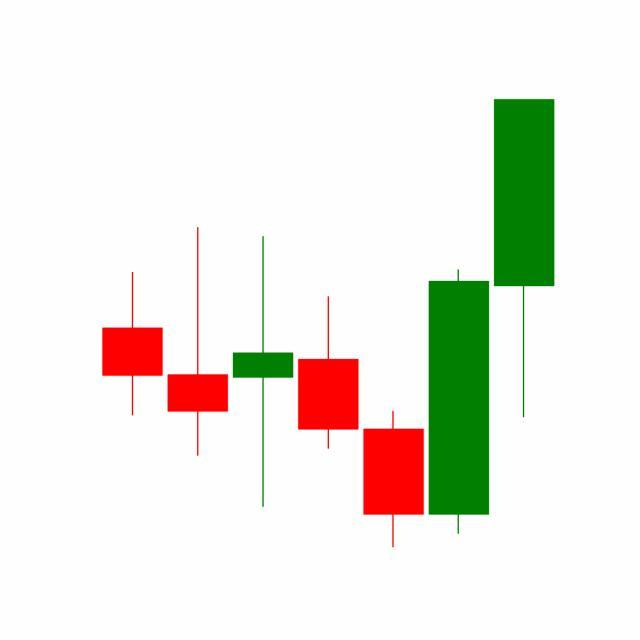Hikkake Pattern: (165, 223, 492, 549)
